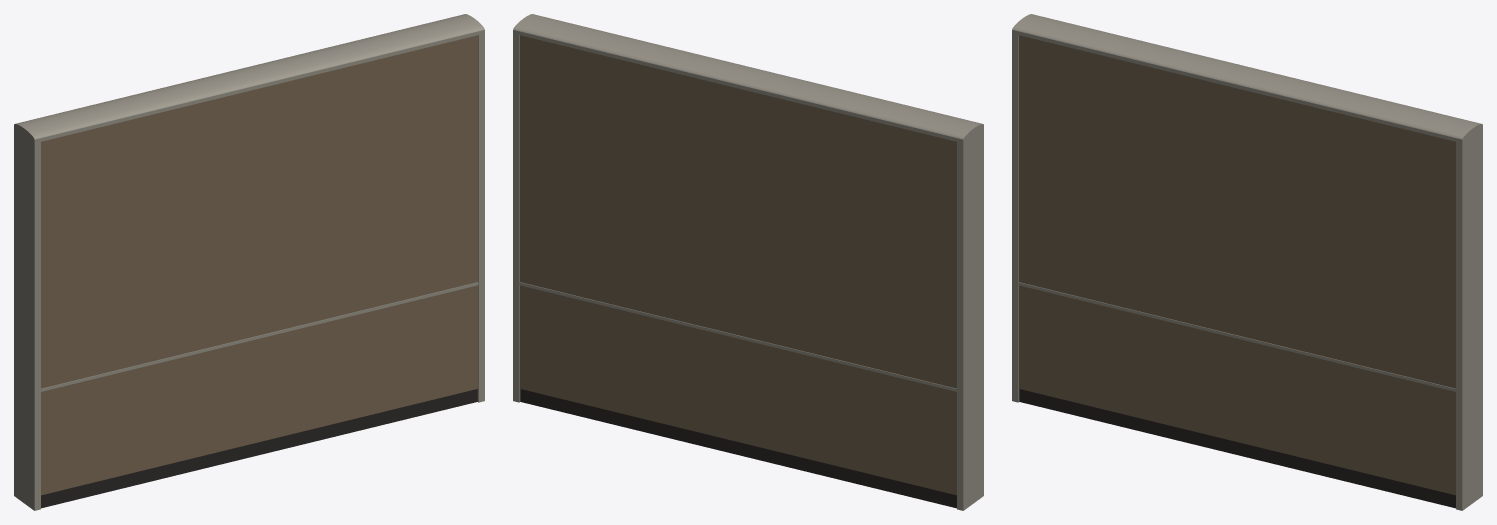
The model's file is SM_CubiclePanel80s_318.glb.
3 renders of one model, left to right at view 1: azimuth 30°, elevation 25°; view 2: azimuth 150°, elevation 25°; view 3: azimuth 330°, elevation 25°, orthographic.
Parts seen in each view (by area): view 1: SM_CubiclePanel80s_318; view 2: SM_CubiclePanel80s_318; view 3: SM_CubiclePanel80s_318.
Boxes of the visible parts, x1,y1,x2,y2 form: SM_CubiclePanel80s_318: [14, 14, 484, 510]; SM_CubiclePanel80s_318: [513, 14, 983, 510]; SM_CubiclePanel80s_318: [1012, 14, 1482, 510].
Bounding box in the file's own units: 3.18 × 2.53 × 0.25.
